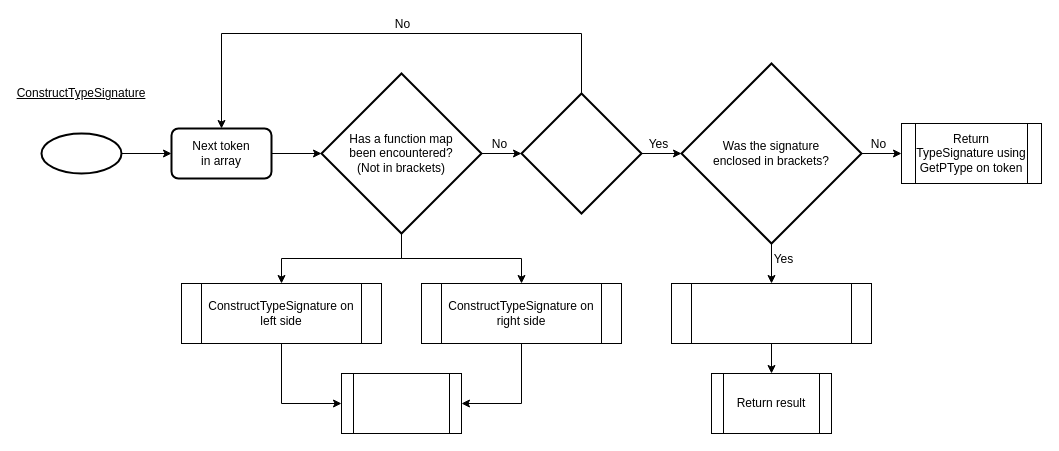
Image size: 1059x451. Some labels were removed from this diagram. Here are the shapes that lost their labels. From the top down, the box of each, then its label:
(40, 132, 122, 174): Start
(520, 92, 642, 214): Has the end been reached?
(670, 282, 872, 344): ConstructTypeSignature on bracket contents
(340, 372, 462, 434): Return TypeSignature using both returns
